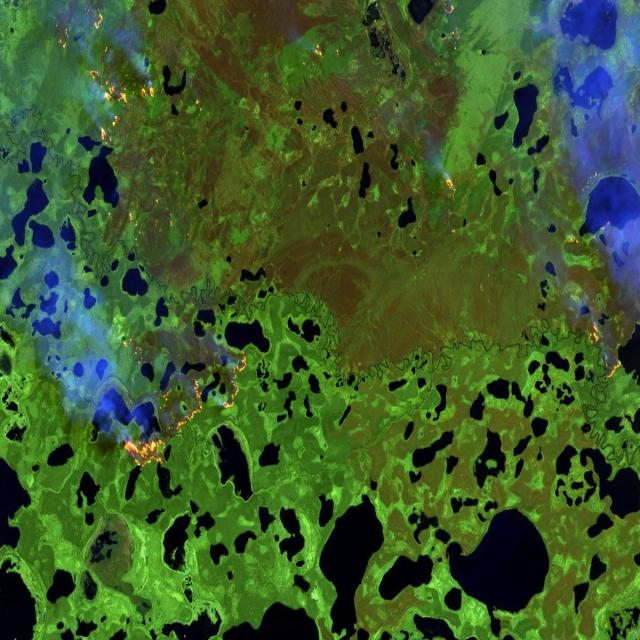fire: (118, 319, 252, 476), (54, 0, 165, 154), (556, 158, 618, 262), (433, 0, 472, 62), (301, 35, 343, 83), (438, 160, 466, 229)
